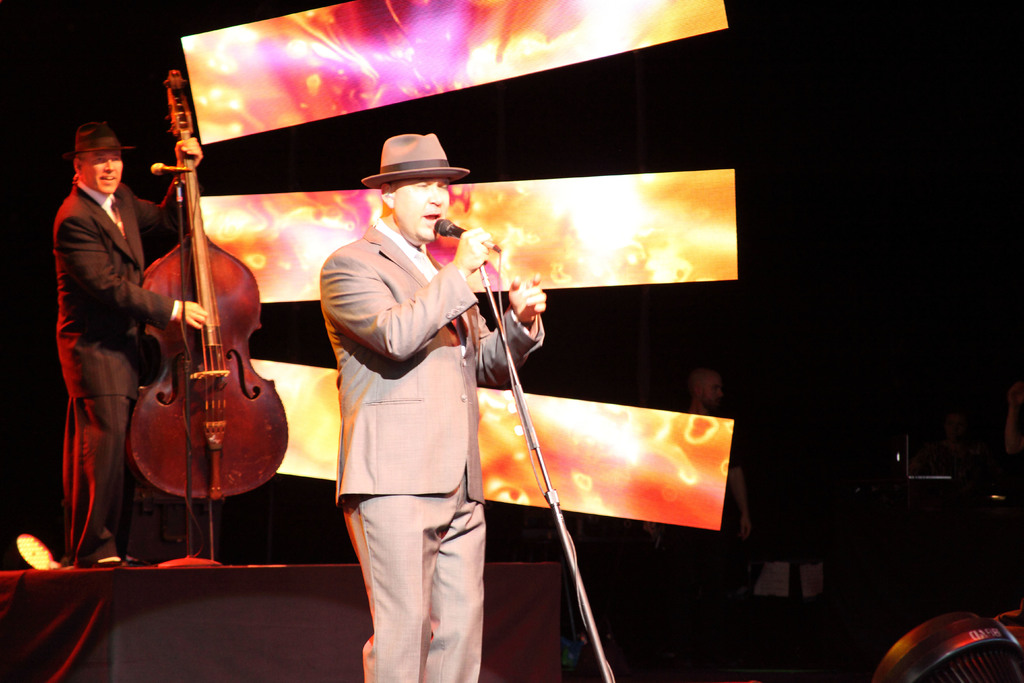Human_hand: (507, 270, 547, 324), (454, 222, 492, 274), (175, 299, 212, 334), (172, 136, 204, 168)
